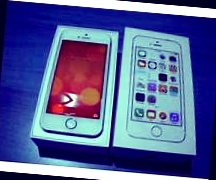iphone: (39, 21, 118, 137)
